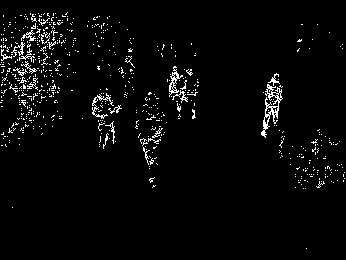person: (133, 91, 168, 189), (89, 86, 122, 150), (262, 70, 284, 139), (176, 67, 200, 122), (166, 65, 185, 102)
